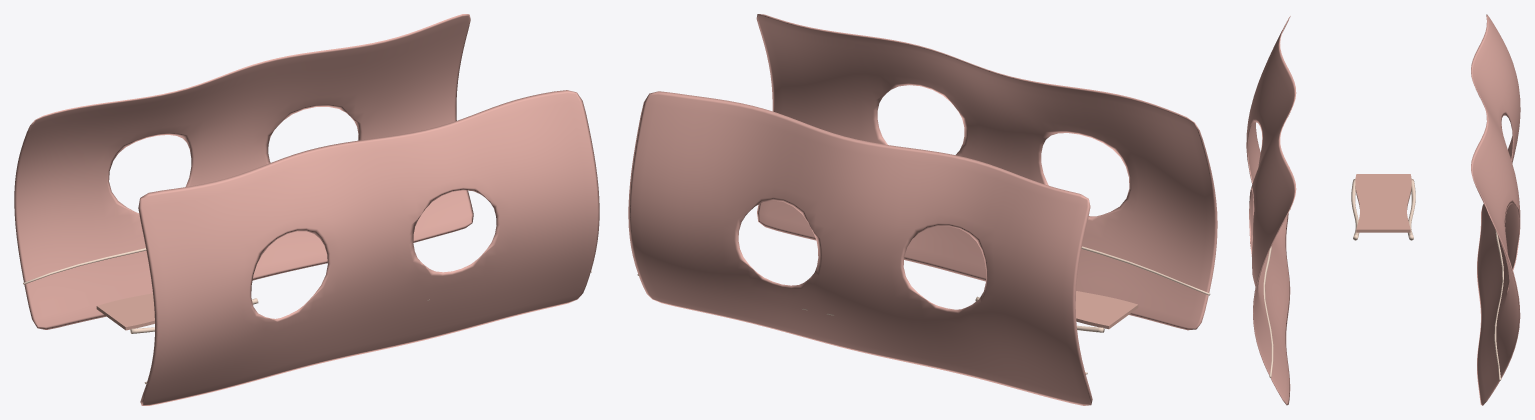
Rendered from arrival_path.glb.
The picture shows the model from 3 angles, left to right: view 1: azimuth 30°, elevation 25°; view 2: azimuth 150°, elevation 25°; view 3: azimuth 270°, elevation 25°; orthographic projection. The views are drawn at different scales.
Visible parts, largest first — view 1: Arrival_Tissue, Arrival_Causeway, Arrival_Ribs; view 2: Arrival_Tissue, Arrival_Causeway, Arrival_Ribs; view 3: Arrival_Tissue, Arrival_Causeway, Arrival_Ribs.
Part boxes in pixels (x1,y1,x2,y2): Arrival_Tissue: [14, 14, 599, 405]; Arrival_Causeway: [96, 293, 154, 330]; Arrival_Ribs: [23, 248, 591, 383]; Arrival_Tissue: [628, 14, 1217, 405]; Arrival_Causeway: [1075, 291, 1138, 329]; Arrival_Ribs: [637, 246, 1210, 374]; Arrival_Tissue: [1246, 14, 1520, 405]; Arrival_Causeway: [1355, 174, 1411, 232]; Arrival_Ribs: [1263, 178, 1503, 380].
Size of the model in its own units: 26.01 by 11.92 by 14.86.
